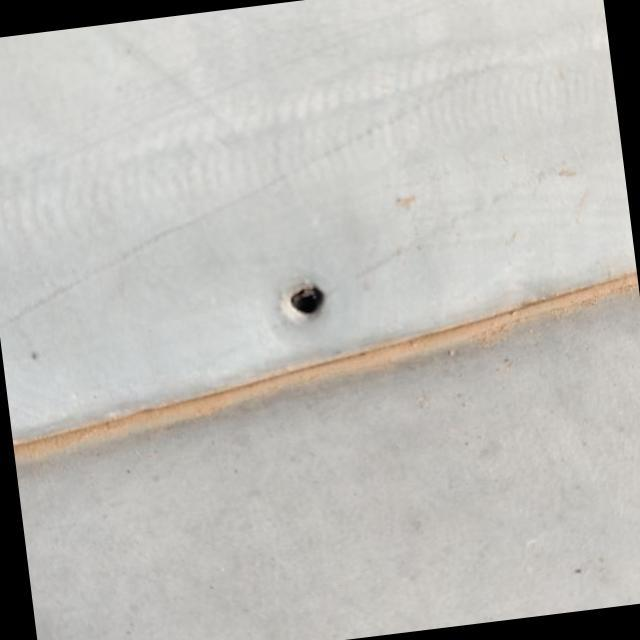Fastener Damage: (255, 256, 355, 352)
